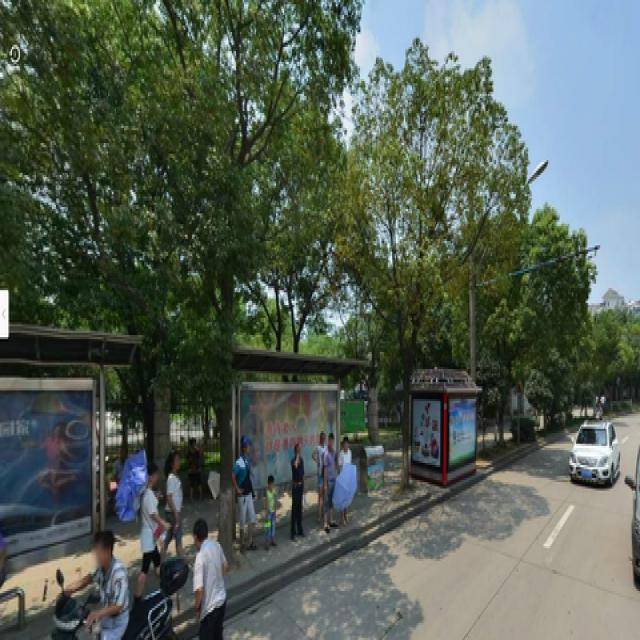cinn: (135, 11, 292, 533)
